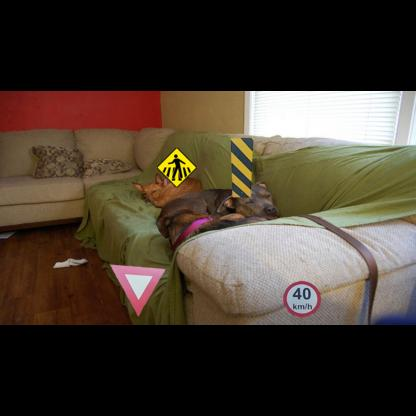A-32b: (156, 147, 197, 188)
O-MP: (231, 138, 253, 197)
R-19: (283, 281, 321, 317)
R-2: (110, 264, 165, 317)
